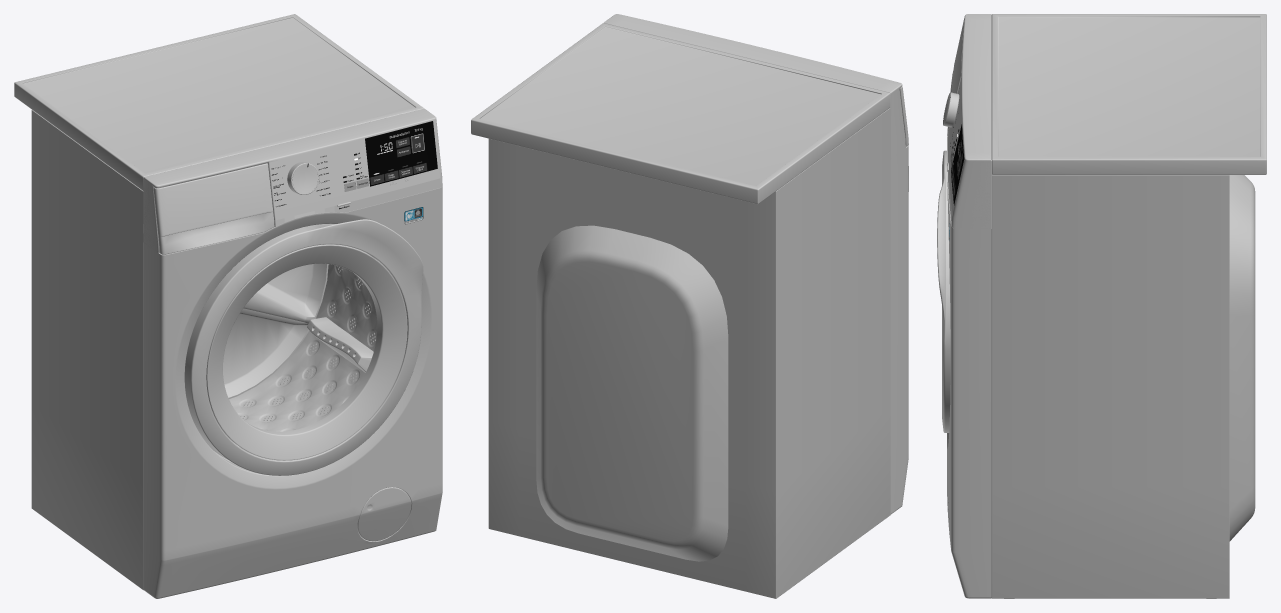
Rendered from glb.glb.
The picture shows the model from 3 angles, left to right: view 1: azimuth 30°, elevation 25°; view 2: azimuth 150°, elevation 25°; view 3: azimuth 270°, elevation 25°; orthographic projection. The views are drawn at different scales.
Visible parts, largest first — view 1: m, wmobj; view 2: m; view 3: m, wmobj.
Boxes of the visible parts, bbox=[...] form: m: bbox=[14, 14, 442, 598]; wmobj: bbox=[143, 120, 440, 251]; m: bbox=[471, 14, 908, 598]; m: bbox=[937, 14, 1266, 598]; wmobj: bbox=[947, 78, 992, 228].
Size of what is drawn, in the model's own units: 0.2346 by 0.3335 by 0.2243.
Materials: 7 (2 with a texture image).
